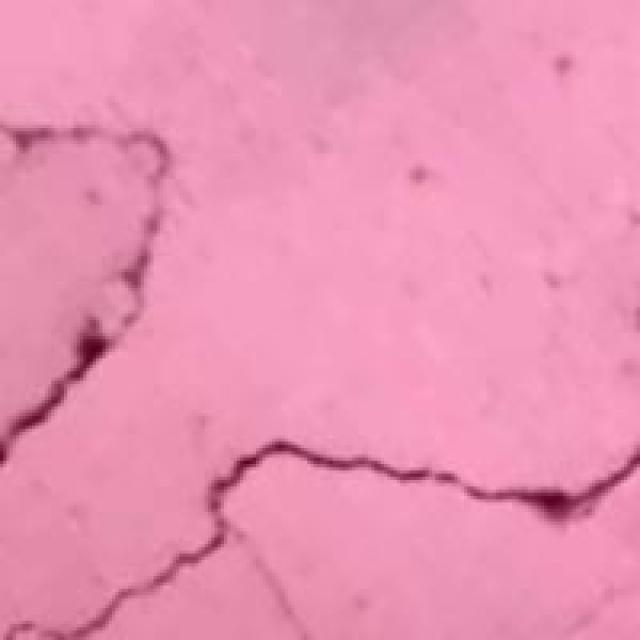crack: (22, 294, 630, 630)
